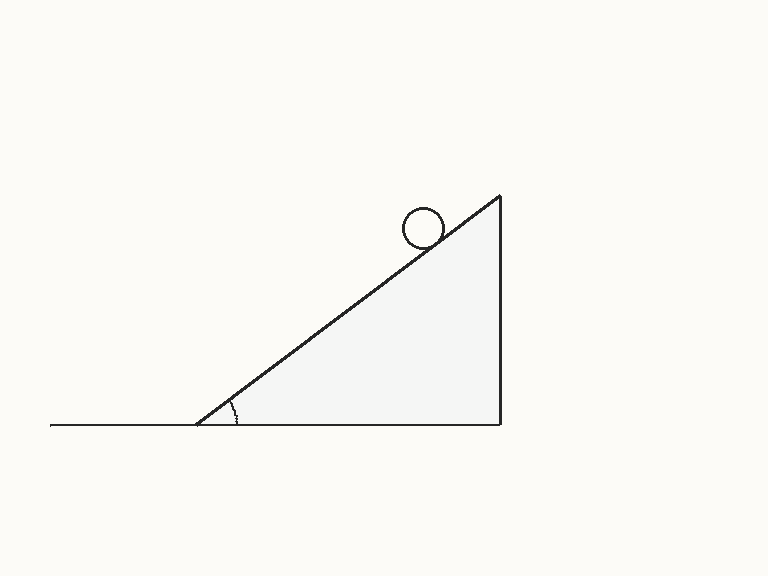ball: (400, 205, 446, 251)
ramp: (195, 193, 502, 426)
